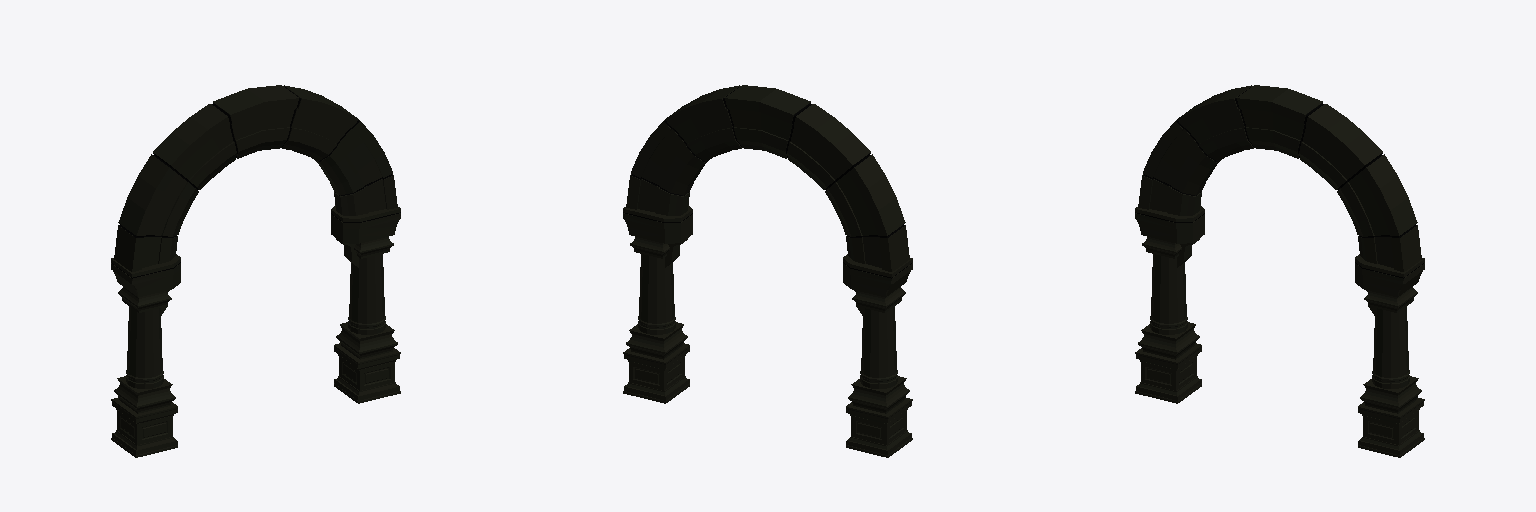
File: Arch_Round_RoundColumn.obj
The picture shows the model from 3 angles: view 1: azimuth 30°, elevation 25°; view 2: azimuth 150°, elevation 25°; view 3: azimuth 330°, elevation 25°; orthographic projection.
Visible parts, largest first — view 1: Arch_Round_RoundColumn.001; view 2: Arch_Round_RoundColumn.001; view 3: Arch_Round_RoundColumn.001.
Part boxes in pixels (x1,y1,x2,y2): Arch_Round_RoundColumn.001: (111,85,400,457); Arch_Round_RoundColumn.001: (623,85,912,457); Arch_Round_RoundColumn.001: (1135,85,1424,457).
Size of the model in its own units: 3.09 by 3.53 by 0.4894.